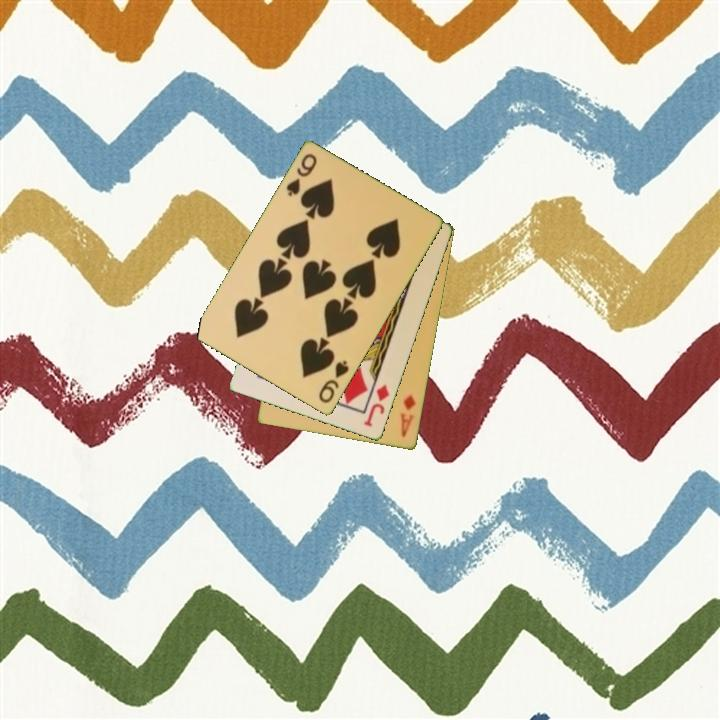9s: (283, 150, 320, 200), (315, 357, 352, 406)
Ad: (397, 391, 419, 441)
Jd: (360, 381, 392, 430)
